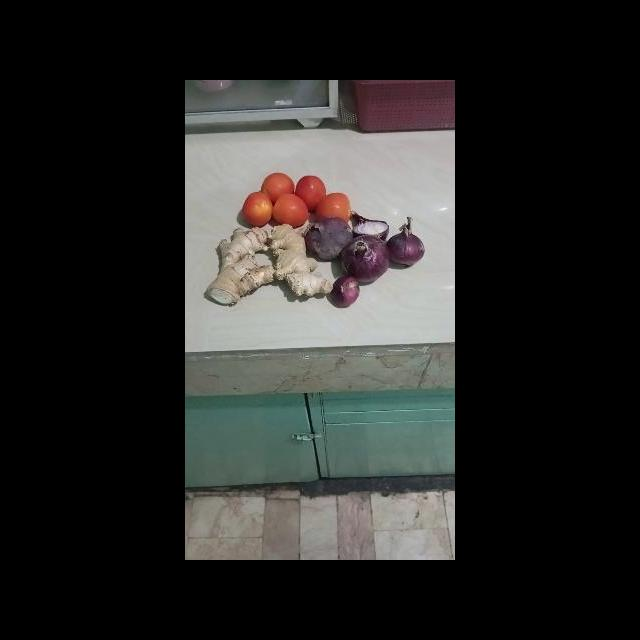ginger: (206, 225, 278, 305), (269, 224, 336, 298)
onion: (340, 234, 393, 285), (383, 215, 426, 267), (304, 216, 352, 261), (348, 210, 390, 243), (331, 272, 360, 310)
